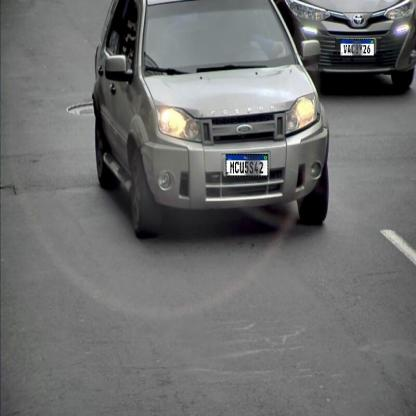PlacaM: (226, 154, 268, 177), (340, 39, 374, 56)
